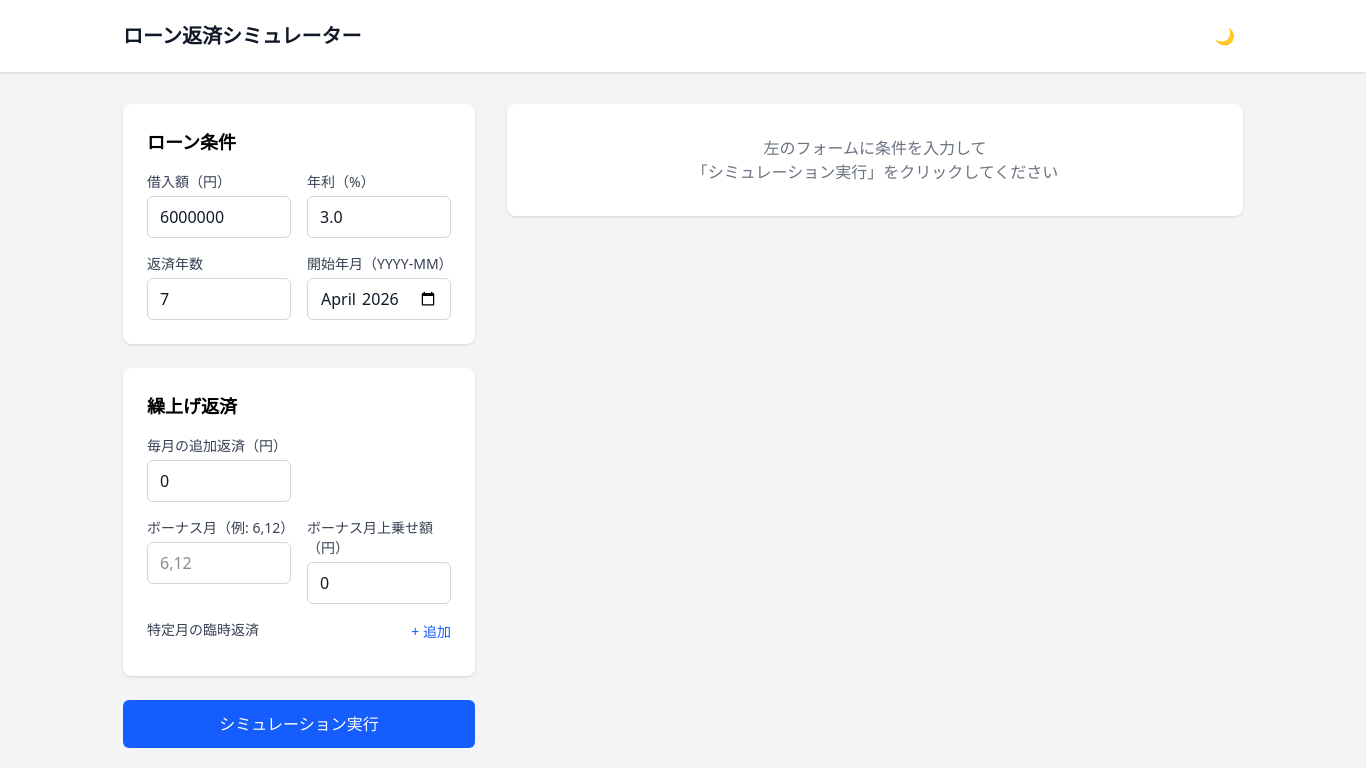
Test case: App 統合テスト › シミュレーション実行 › 繰上げ返済ありの場合、短縮期間と利息軽減額が表示される
毎月1万円の繰上げ返済を設定
Replace the text in the number field labelled "毎月の追加返済（円）" with "10000" at (219, 481), box [147,460,291,502]
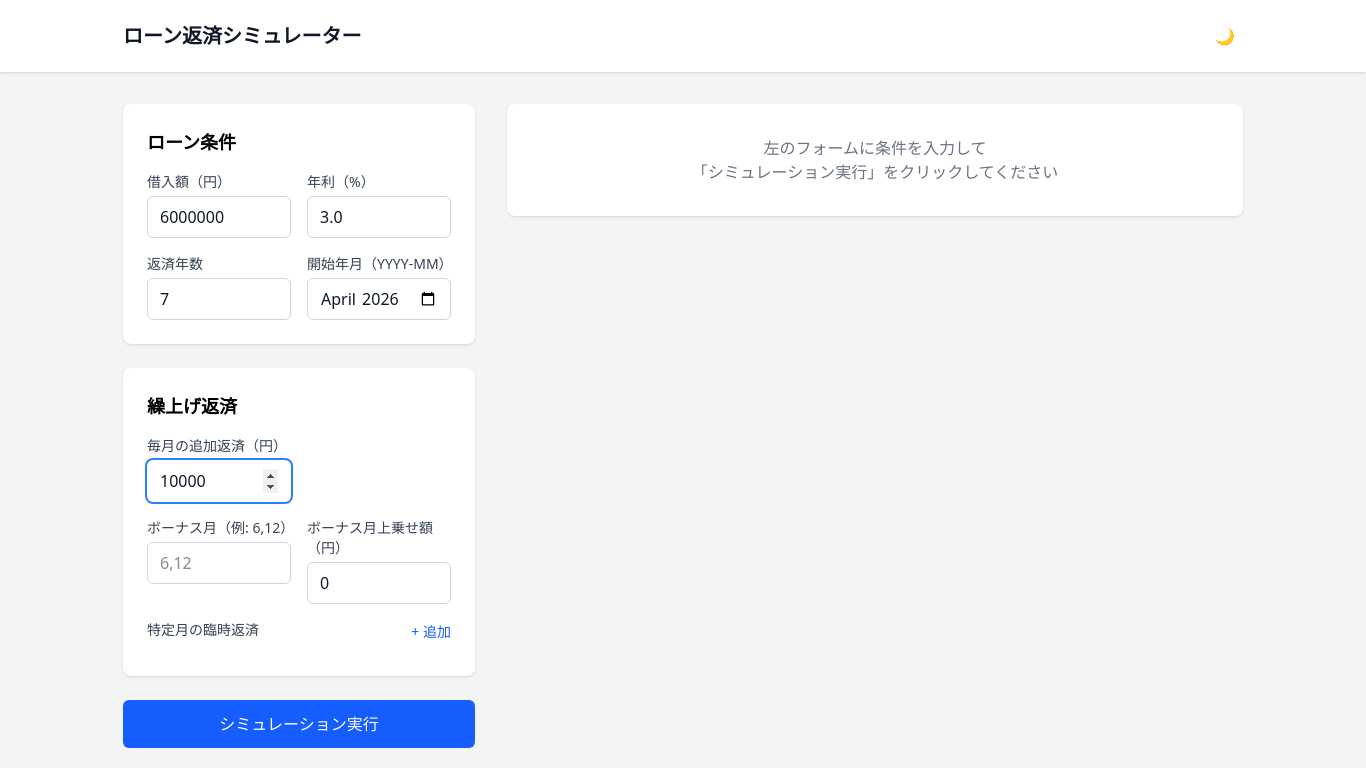
Click the button "シミュレーション実行" at (299, 724), box [123,700,475,748]
(page scrolled)
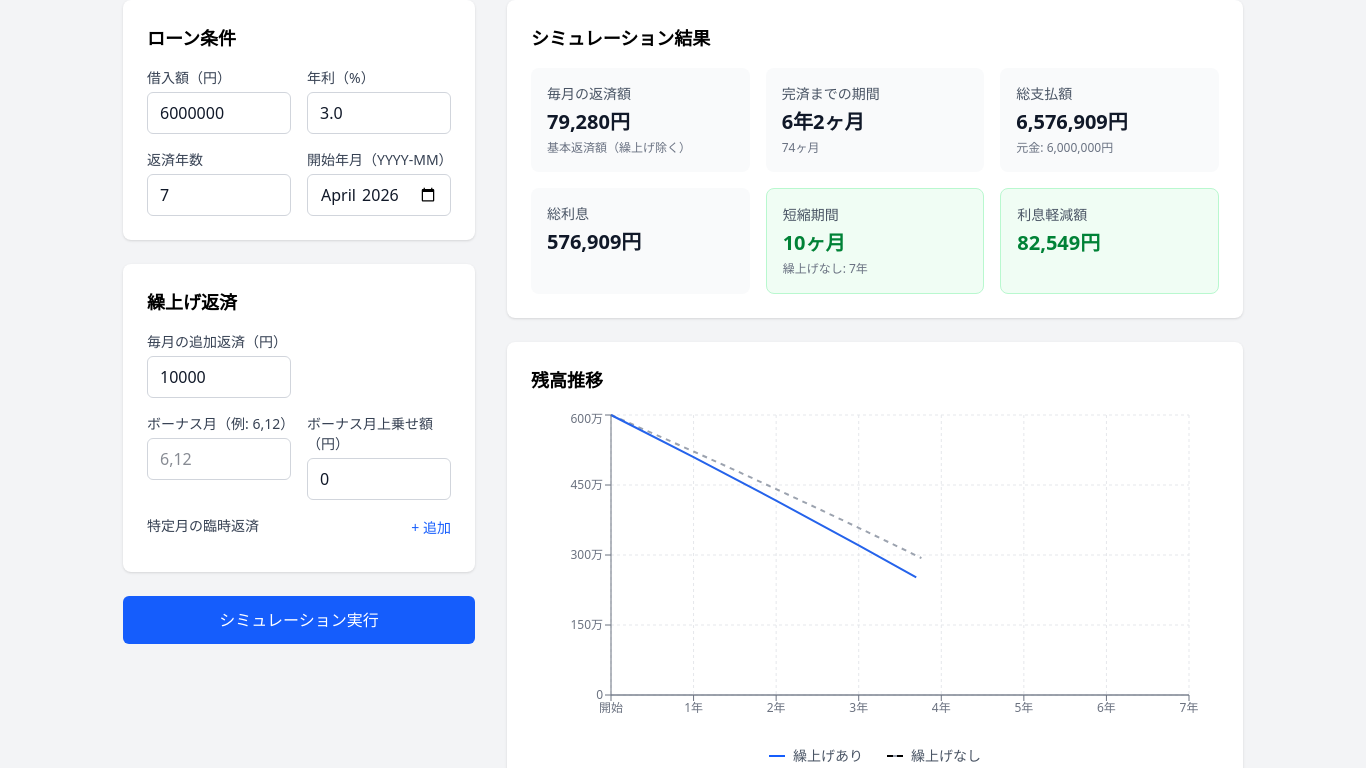
Expected: the text "短縮期間" is shown, [783,205,839,224]
Expected: the text "利息軽減額" is shown, [1017,205,1087,224]
